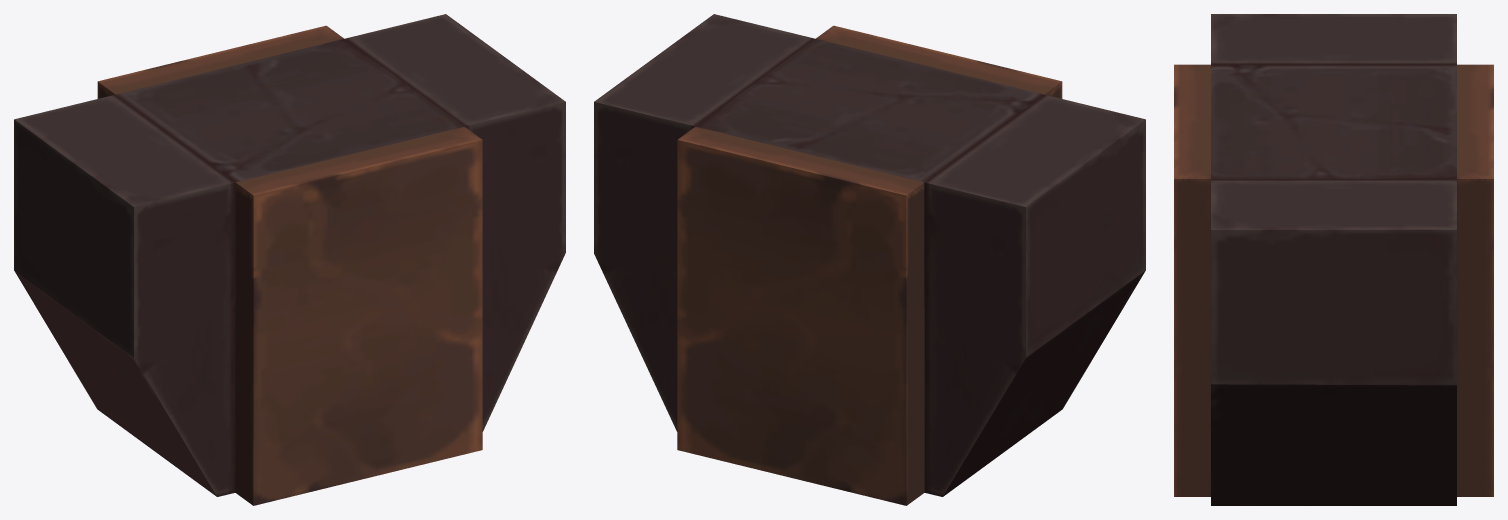
File: sn_jixie_zhutou_001.FBX
3 renders of one model, left to right at view 1: azimuth 30°, elevation 25°; view 2: azimuth 150°, elevation 25°; view 3: azimuth 270°, elevation 25°, orthographic. The views are drawn at different scales.
Visible parts, largest first — view 1: sn_jixie_zhutou_001; view 2: sn_jixie_zhutou_001; view 3: sn_jixie_zhutou_001.
Boxes of the visible parts, x1,y1,x2,y2 form: sn_jixie_zhutou_001: [14, 14, 565, 505]; sn_jixie_zhutou_001: [594, 14, 1145, 505]; sn_jixie_zhutou_001: [1174, 14, 1493, 505].
Size of the model in its own units: 6.49 by 4.06 by 4.46.
